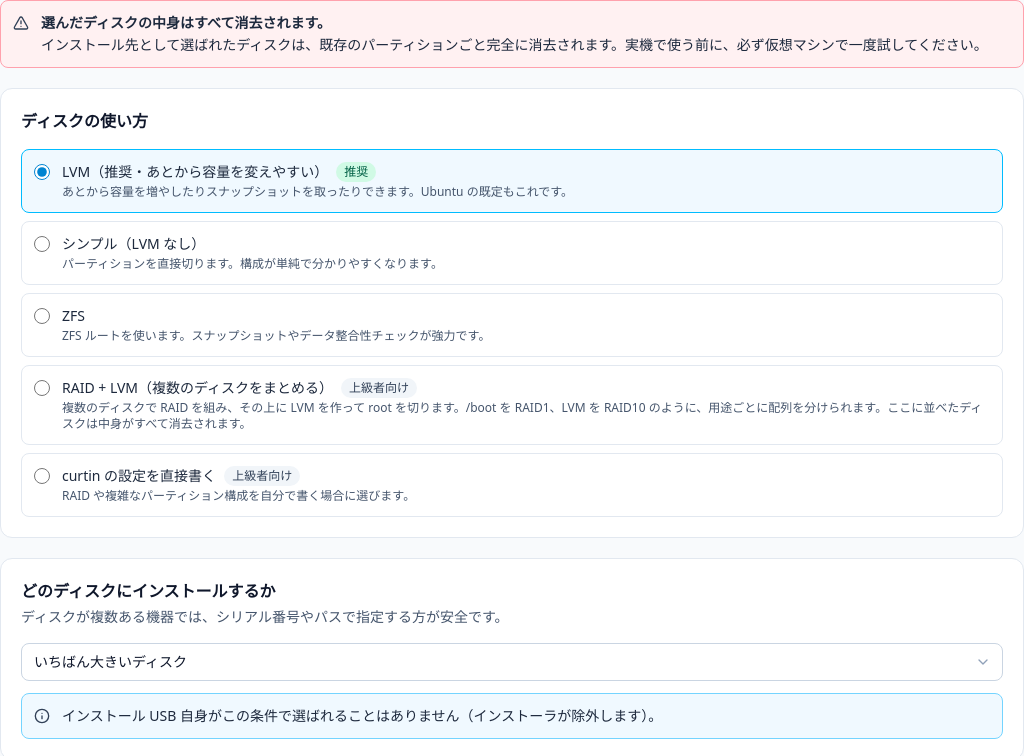
it: RAID + LVM を画面から作れる › 構成方法に 4 つ目として出て、選ぶとディスクと配列の UI が現れる
The width and height of the screenshot is (1024, 756).
Expected: the 1st radio button is shown, [34,164,50,180]
Expected: the radio button labelled "シンプル（LVM なし） パーティションを直接切ります。構成が単純で分かりやすくなります。" is shown, [34,236,50,252]
Click the 4th radio button at {"x": 42, "y": 388}, box [34,380,50,396]
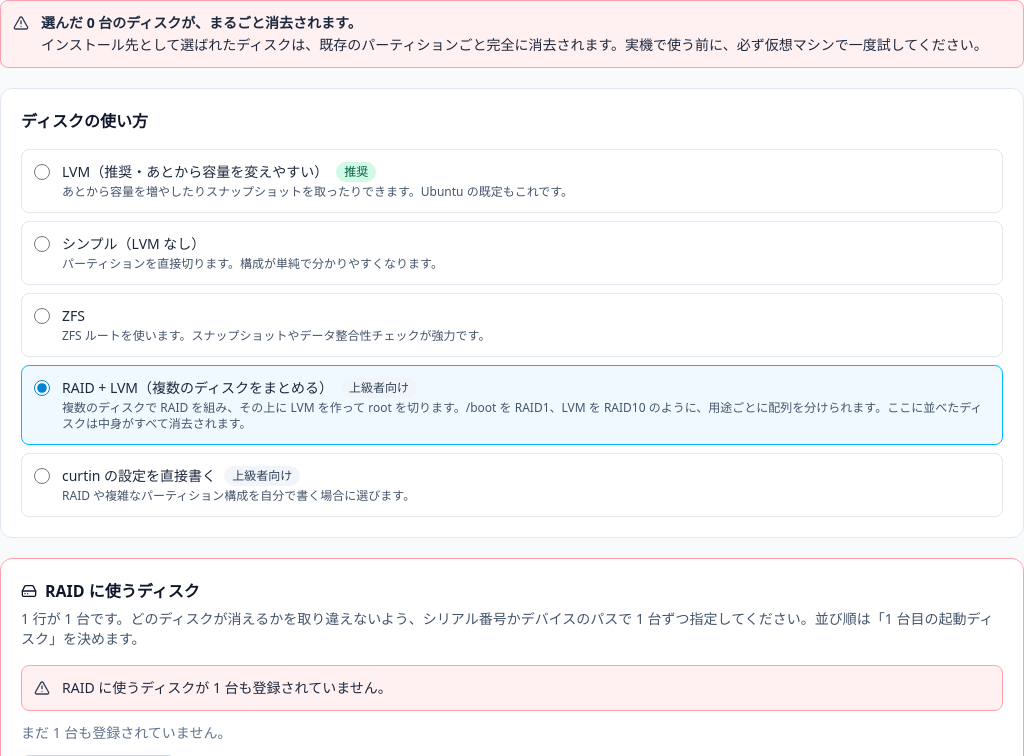
Now the text "RAID に使うディスク" is shown, box [21,579,200,603]
Now the text "どのディスクにインストールするか" is gone
